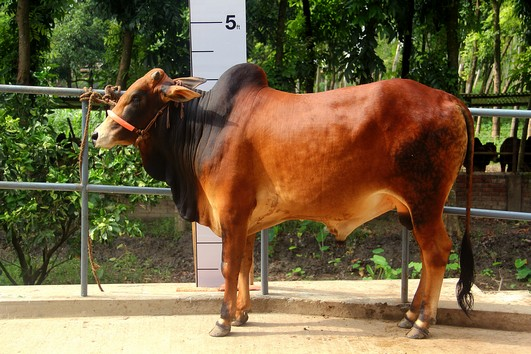cow: (86, 60, 480, 345)
